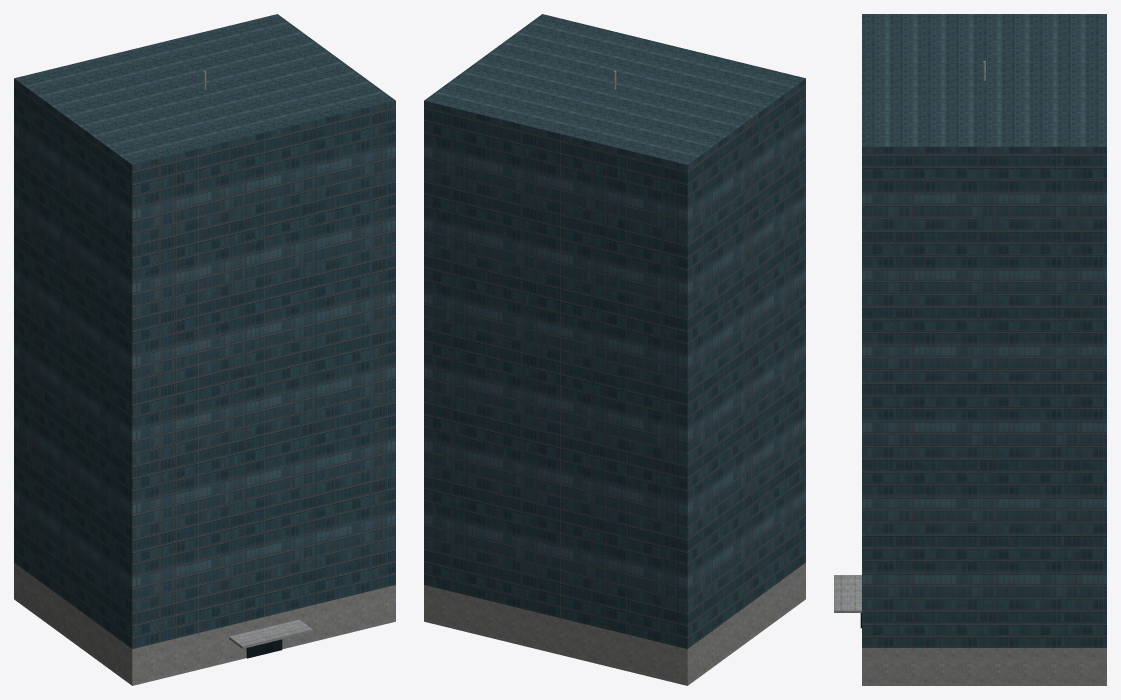
The model's file is midtown-office-tower_lod0.gltf.
3 renders of one model, left to right at view 1: azimuth 30°, elevation 25°; view 2: azimuth 150°, elevation 25°; view 3: azimuth 270°, elevation 25°, orthographic. The views are drawn at different scales.
Visible parts, largest first — view 1: midtown-office-tower_upper, midtown-office-tower_base, midtown-office-tower__canopy; view 2: midtown-office-tower_upper, midtown-office-tower_base; view 3: midtown-office-tower_upper, midtown-office-tower_base, midtown-office-tower__canopy.
Boxes of the visible parts, <box> form: midtown-office-tower_upper: <box>14,14,395,648</box>; midtown-office-tower_base: <box>14,563,395,685</box>; midtown-office-tower__canopy: <box>229,619,312,648</box>; midtown-office-tower_upper: <box>424,14,805,648</box>; midtown-office-tower_base: <box>424,563,805,685</box>; midtown-office-tower_upper: <box>862,14,1106,647</box>; midtown-office-tower_base: <box>862,648,1106,685</box>; midtown-office-tower__canopy: <box>834,575,861,612</box>.
Size of the model in its own units: 45 by 88 by 39.
